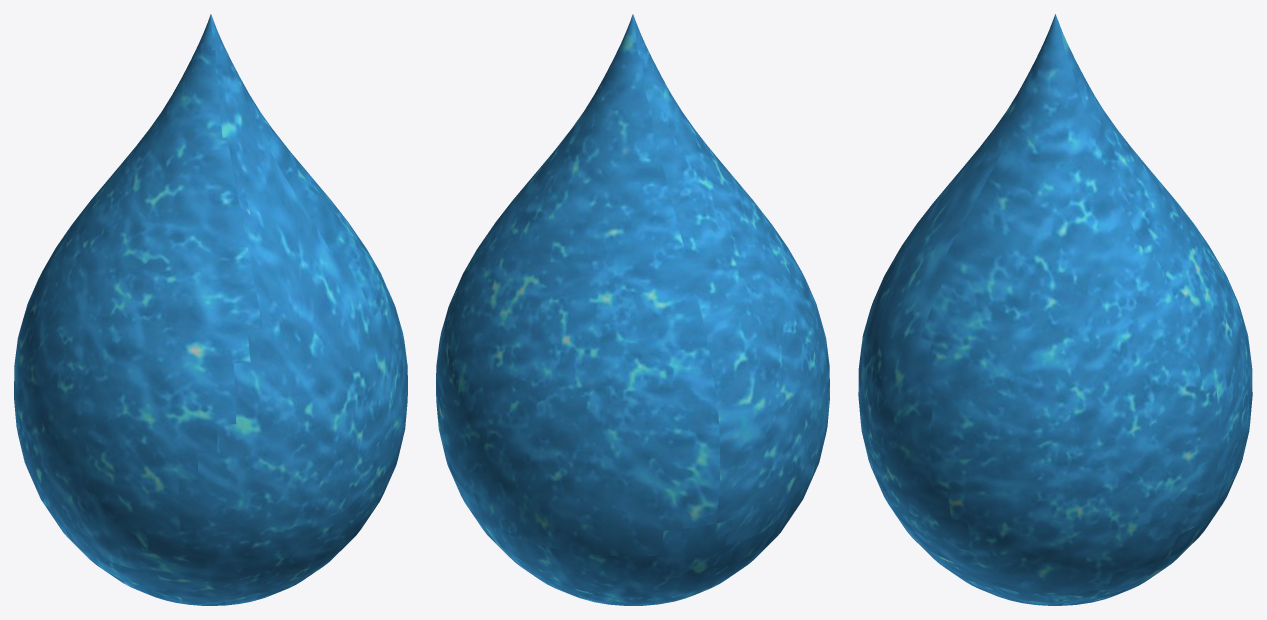
File: Droplet.Circle.001.gltf
The picture shows the model from 3 angles, left to right: view 1: azimuth 30°, elevation 25°; view 2: azimuth 150°, elevation 25°; view 3: azimuth 270°, elevation 25°; orthographic projection.
Visible parts, largest first — view 1: Droplet.Circle.001; view 2: Droplet.Circle.001; view 3: Droplet.Circle.001.
Part boxes in pixels (x1,y1,x2,y2): Droplet.Circle.001: [14, 14, 407, 605]; Droplet.Circle.001: [436, 14, 829, 605]; Droplet.Circle.001: [858, 14, 1252, 605].
Size of the model in its own units: 1.31 by 2.1 by 1.31.
1 material, 1 textured.
